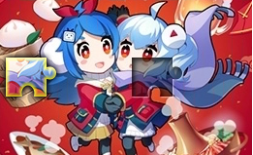gap: (132, 58, 174, 97)
